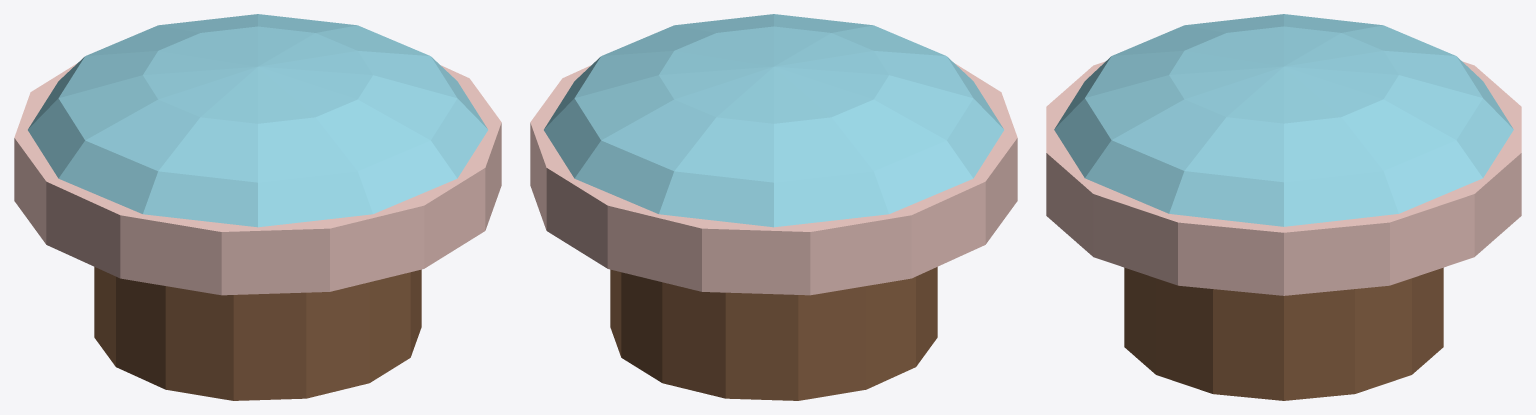
File: jar_hourglass_cork.obj
3 renders of one model, left to right at view 1: azimuth 30°, elevation 25°; view 2: azimuth 150°, elevation 25°; view 3: azimuth 270°, elevation 25°, orthographic.
Parts seen in each view (by area): view 1: jar_hourglass_cork; view 2: jar_hourglass_cork; view 3: jar_hourglass_cork.
Part boxes in pixels (<box>): jar_hourglass_cork: <box>14,14,501,400</box>; jar_hourglass_cork: <box>530,14,1017,400</box>; jar_hourglass_cork: <box>1046,14,1521,400</box>.
Size of the model in its own units: 0.07 by 0.042 by 0.0682.
Materials: 1 (1 with a texture image).
